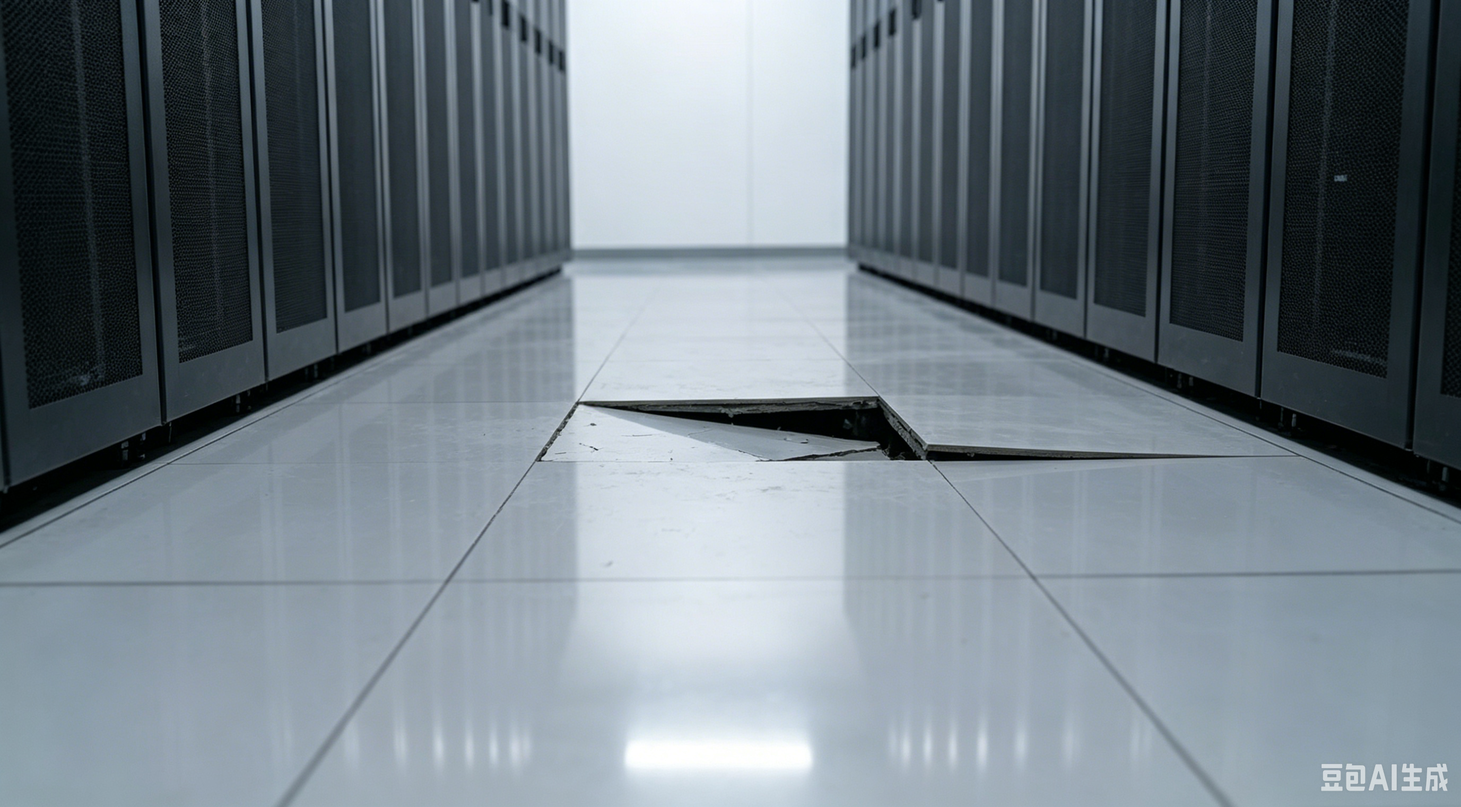floor_defect: (534, 390, 933, 477), (938, 423, 1210, 472)
